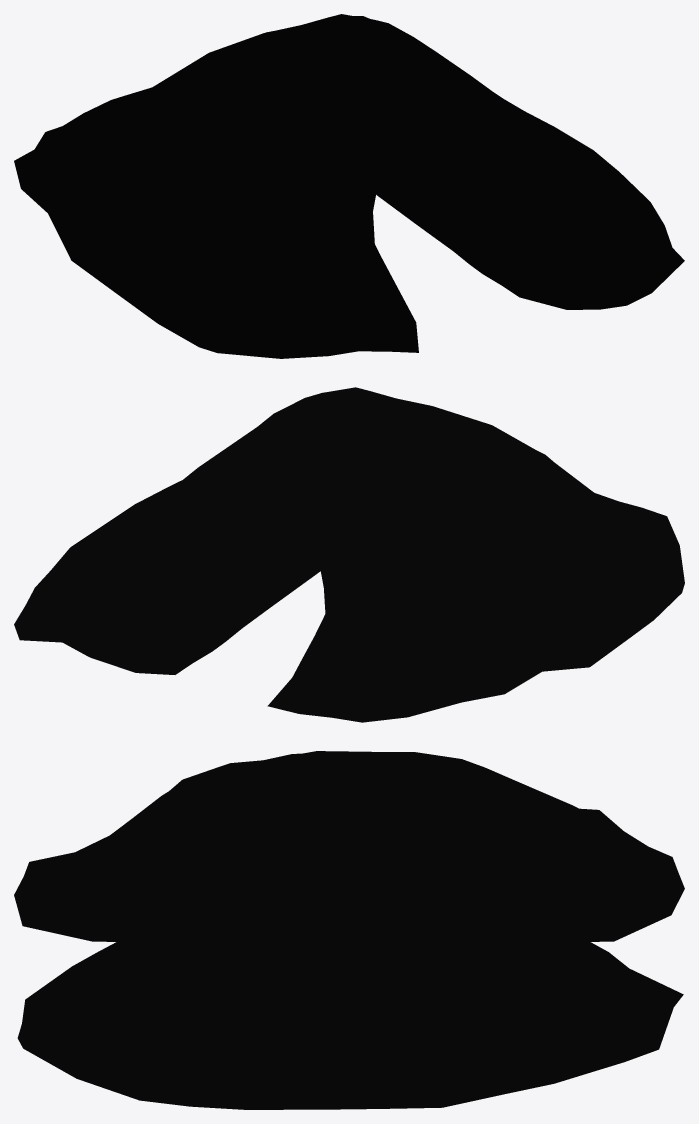
3 views of the same model, one above another, from view 1: azimuth 30°, elevation 25°; view 2: azimuth 150°, elevation 25°; view 3: azimuth 270°, elevation 25° (orthographic). The views are drawn at different scales.
Visible parts, largest first — view 1: Joint_0_Object_0; view 2: Joint_0_Object_0; view 3: Joint_0_Object_0.
Part boxes in pixels (x1,y1,x2,y2): Joint_0_Object_0: (14,14,684,358); Joint_0_Object_0: (14,387,684,722); Joint_0_Object_0: (14,751,684,1109).
Size of the model in its own units: 3405 by 1170 by 3475.
Materials: 1 (1 with a texture image).
